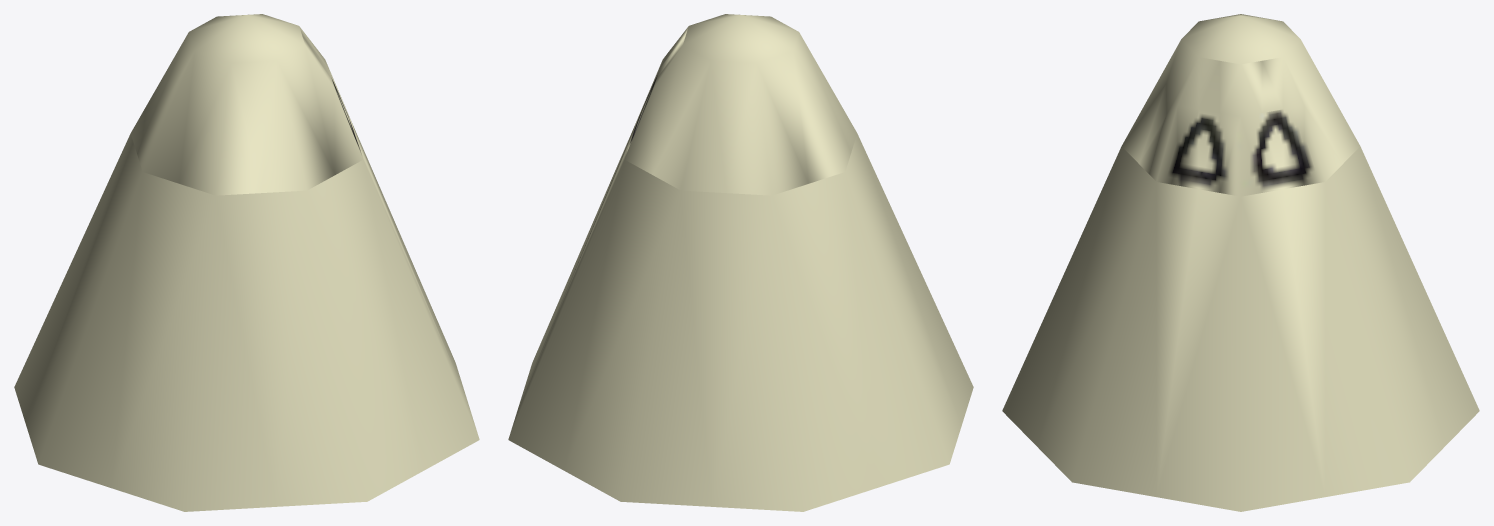
The model's file is hill3.dae.
3 renders of one model, left to right at view 1: azimuth 30°, elevation 25°; view 2: azimuth 150°, elevation 25°; view 3: azimuth 270°, elevation 25°, orthographic.
Parts seen in each view (by area): view 1: Circle; view 2: Circle; view 3: Circle.
Part boxes in pixels (x1=…): Circle: x1=14, y1=14, x2=479, y2=511; Circle: x1=508, y1=14, x2=973, y2=511; Circle: x1=1002, y1=14, x2=1479, y2=511.
Size of the model in its own units: 2 by 2 by 1.83.
Materials: 1 (1 with a texture image).
